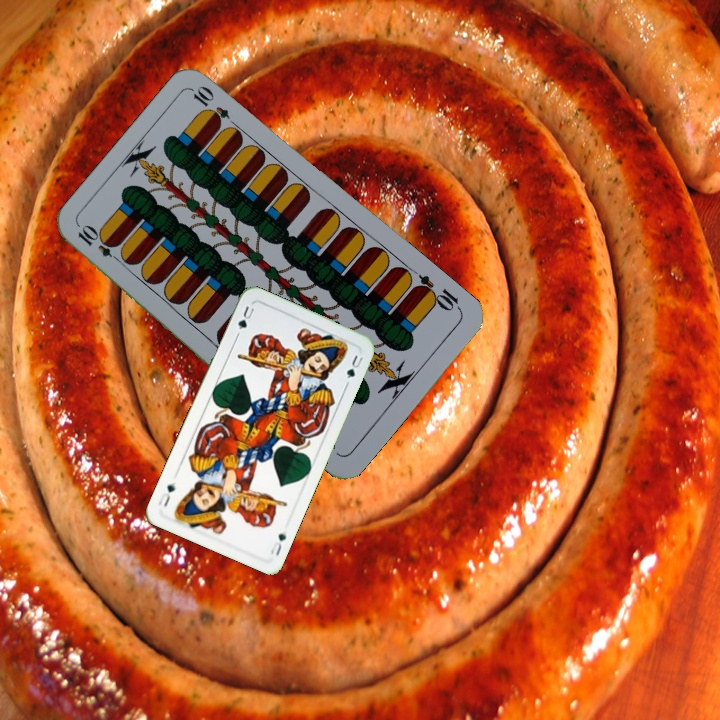E10: (409, 271, 464, 315), (73, 222, 126, 267)
GU: (232, 302, 257, 338), (266, 526, 289, 559)
